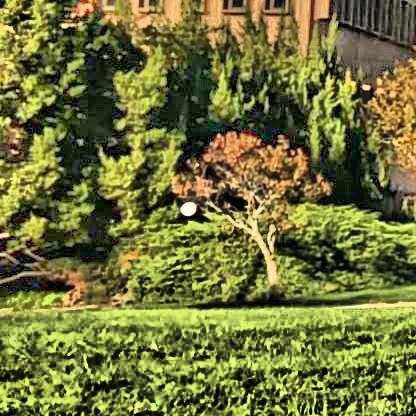golfball: (176, 198, 195, 215)
